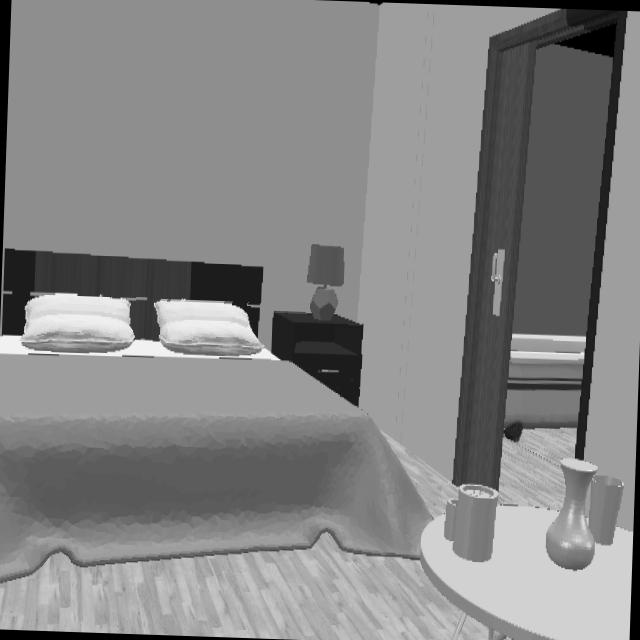bed: (0, 249, 424, 583)
lamp: (306, 245, 344, 319)
nighttable: (273, 313, 362, 405)
pillow: (22, 294, 134, 353), (154, 300, 262, 356)
table: (420, 506, 632, 640)
